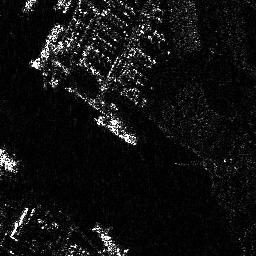ship: (93, 116, 136, 145), (33, 23, 60, 67), (93, 223, 124, 256)
